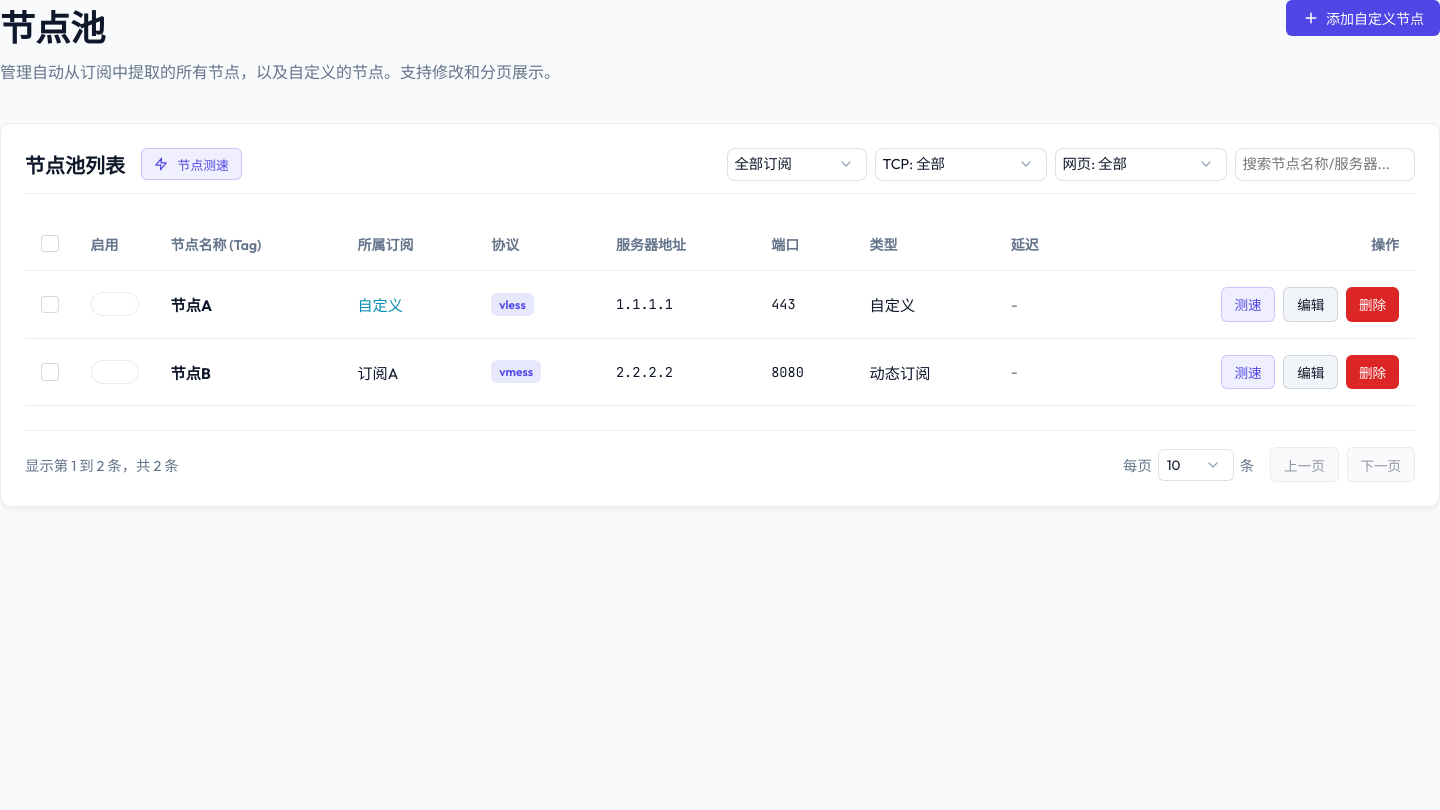
it: NodesView - 节点池管理 › 新增节点 › 点击'添加自定义节点'打开 modal
Click the button "添加自定义节点". click: (1363, 18)
box: [1286,0,1439,36]
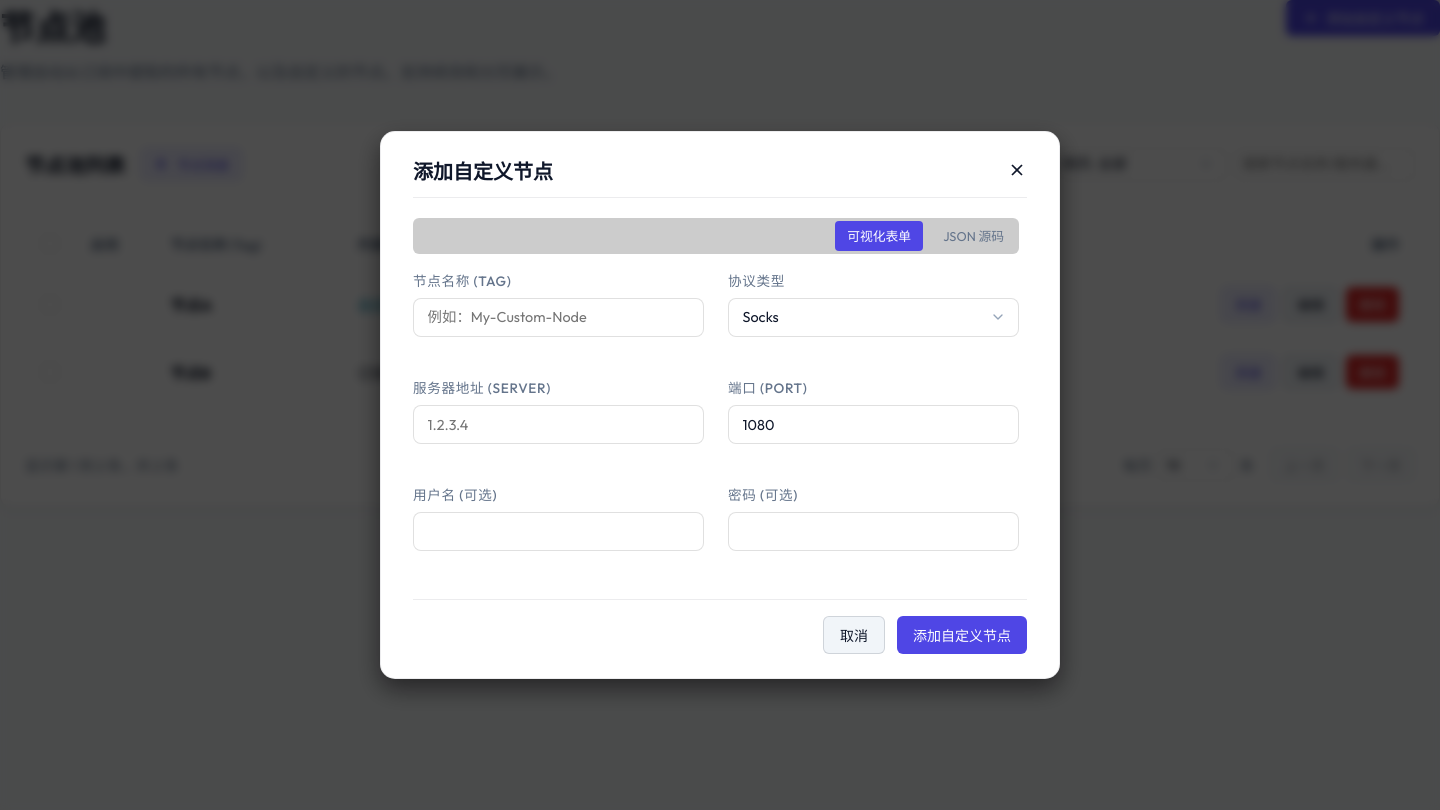
Result: the element with class "modal-header" reads "添加自定义节点" at [413,159,553,184]
